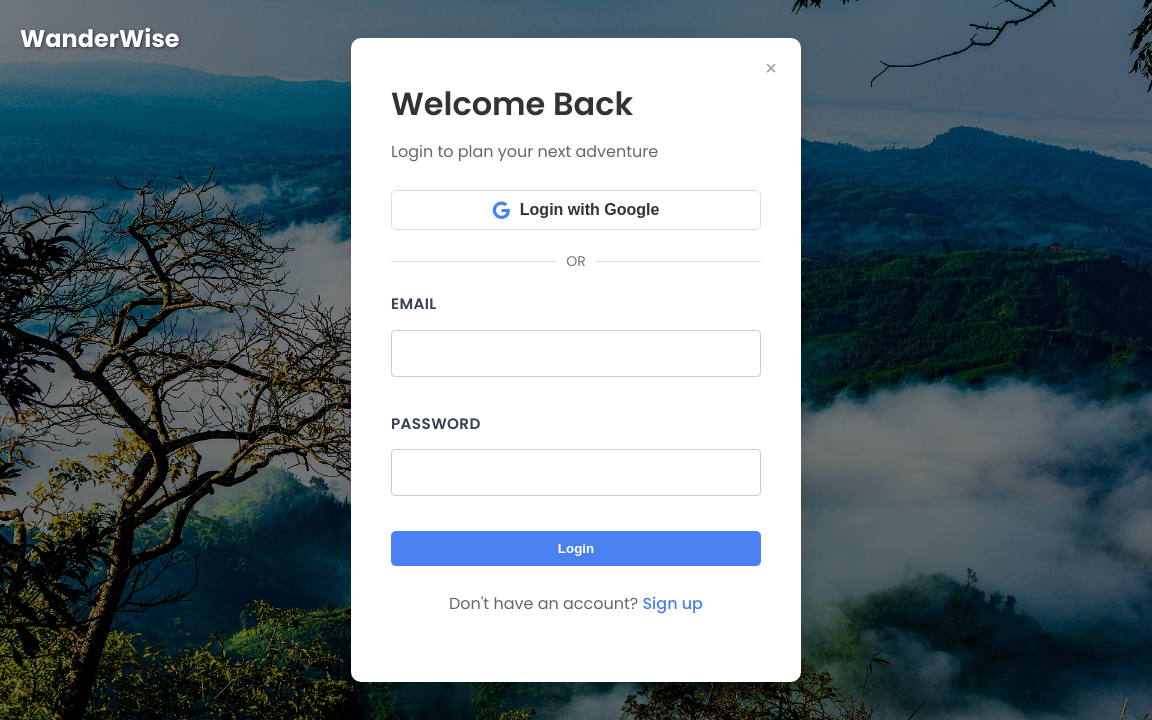
Test: Authentication Integration Tests › Login Flow Integration › login with invalid credentials shows error
The width and height of the screenshot is (1152, 720).
Type "test@example.com" into the field labelled "Email".
click(576, 353); type("test@example.com")  # box [391,330,761,377]
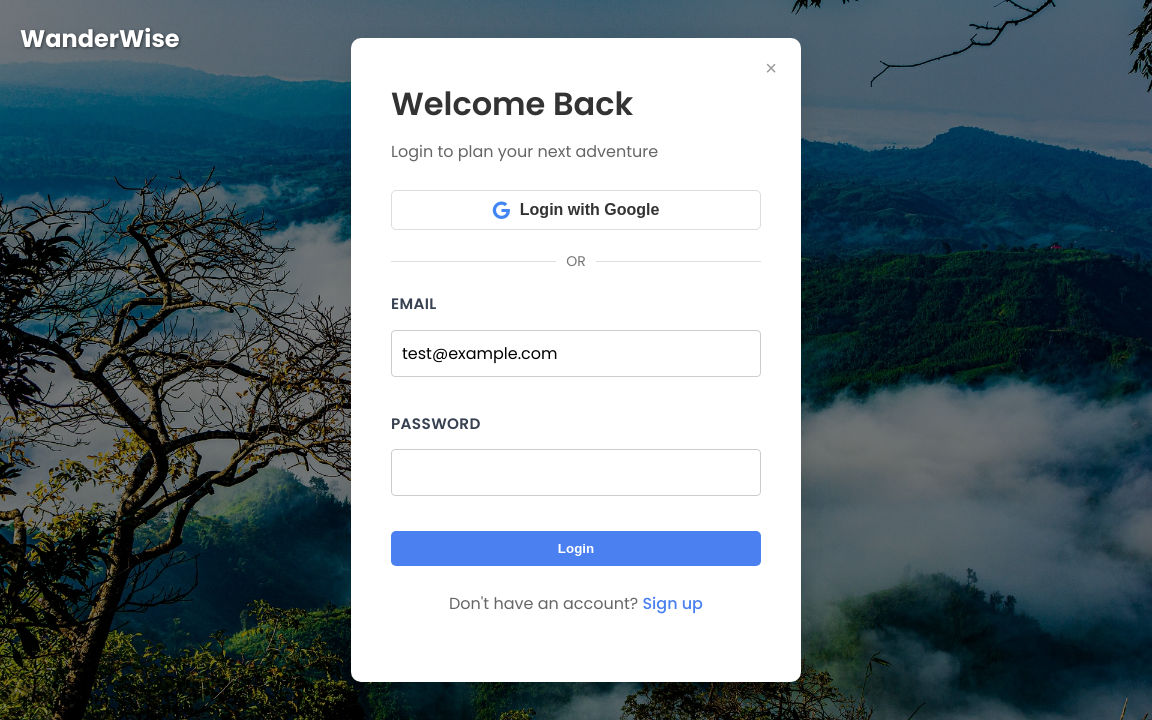
Type "wrongpassword" into the password field labelled "Password".
click(576, 473); type("wrongpassword")  # box [391,449,761,496]
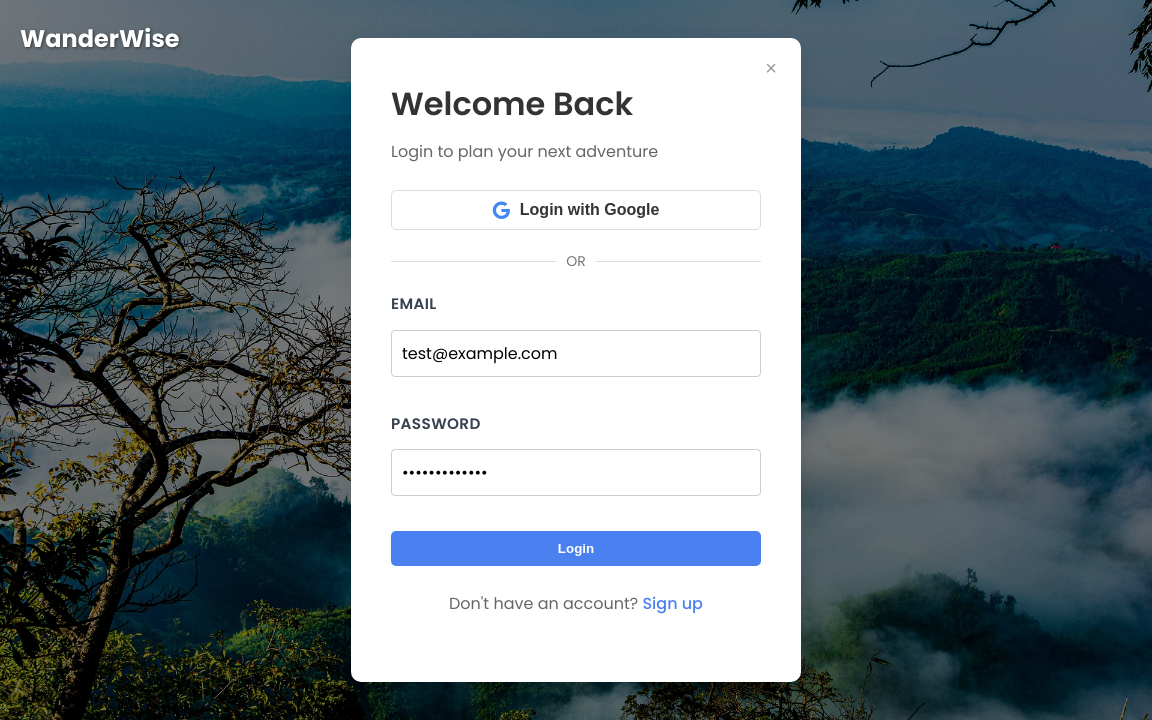
Click the button "Login".
click(576, 549)  # box [391,531,761,566]
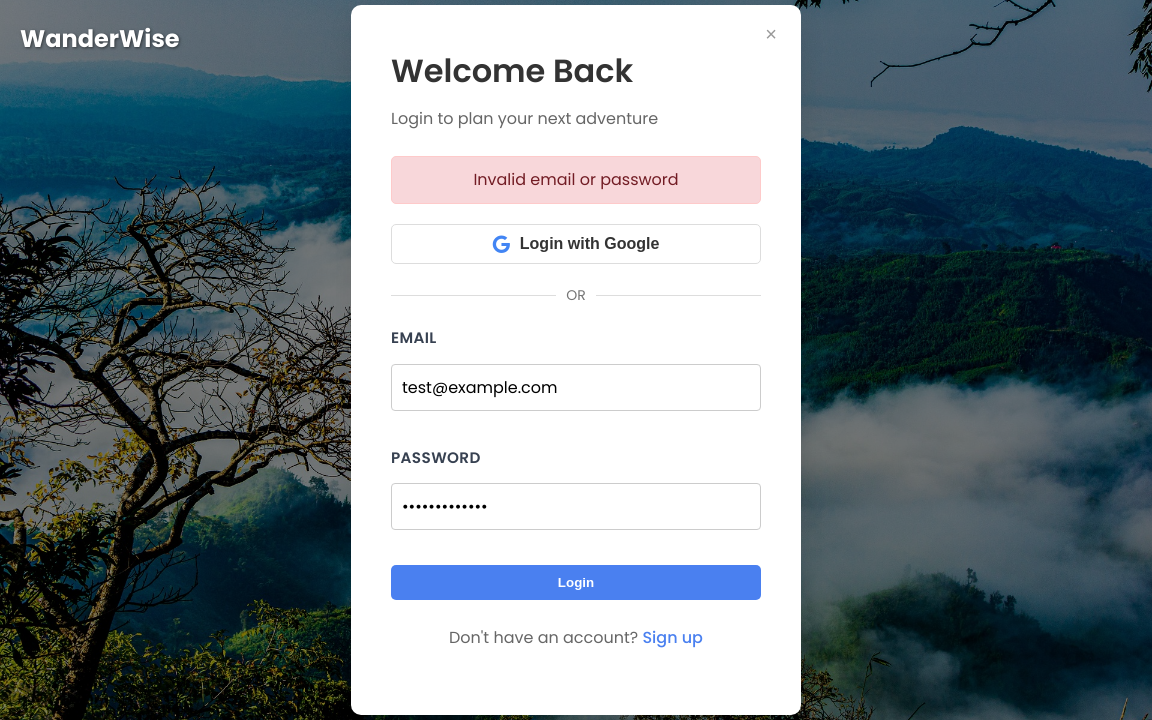
Result: the text "Invalid email or password" is shown at [391,156,761,204]
